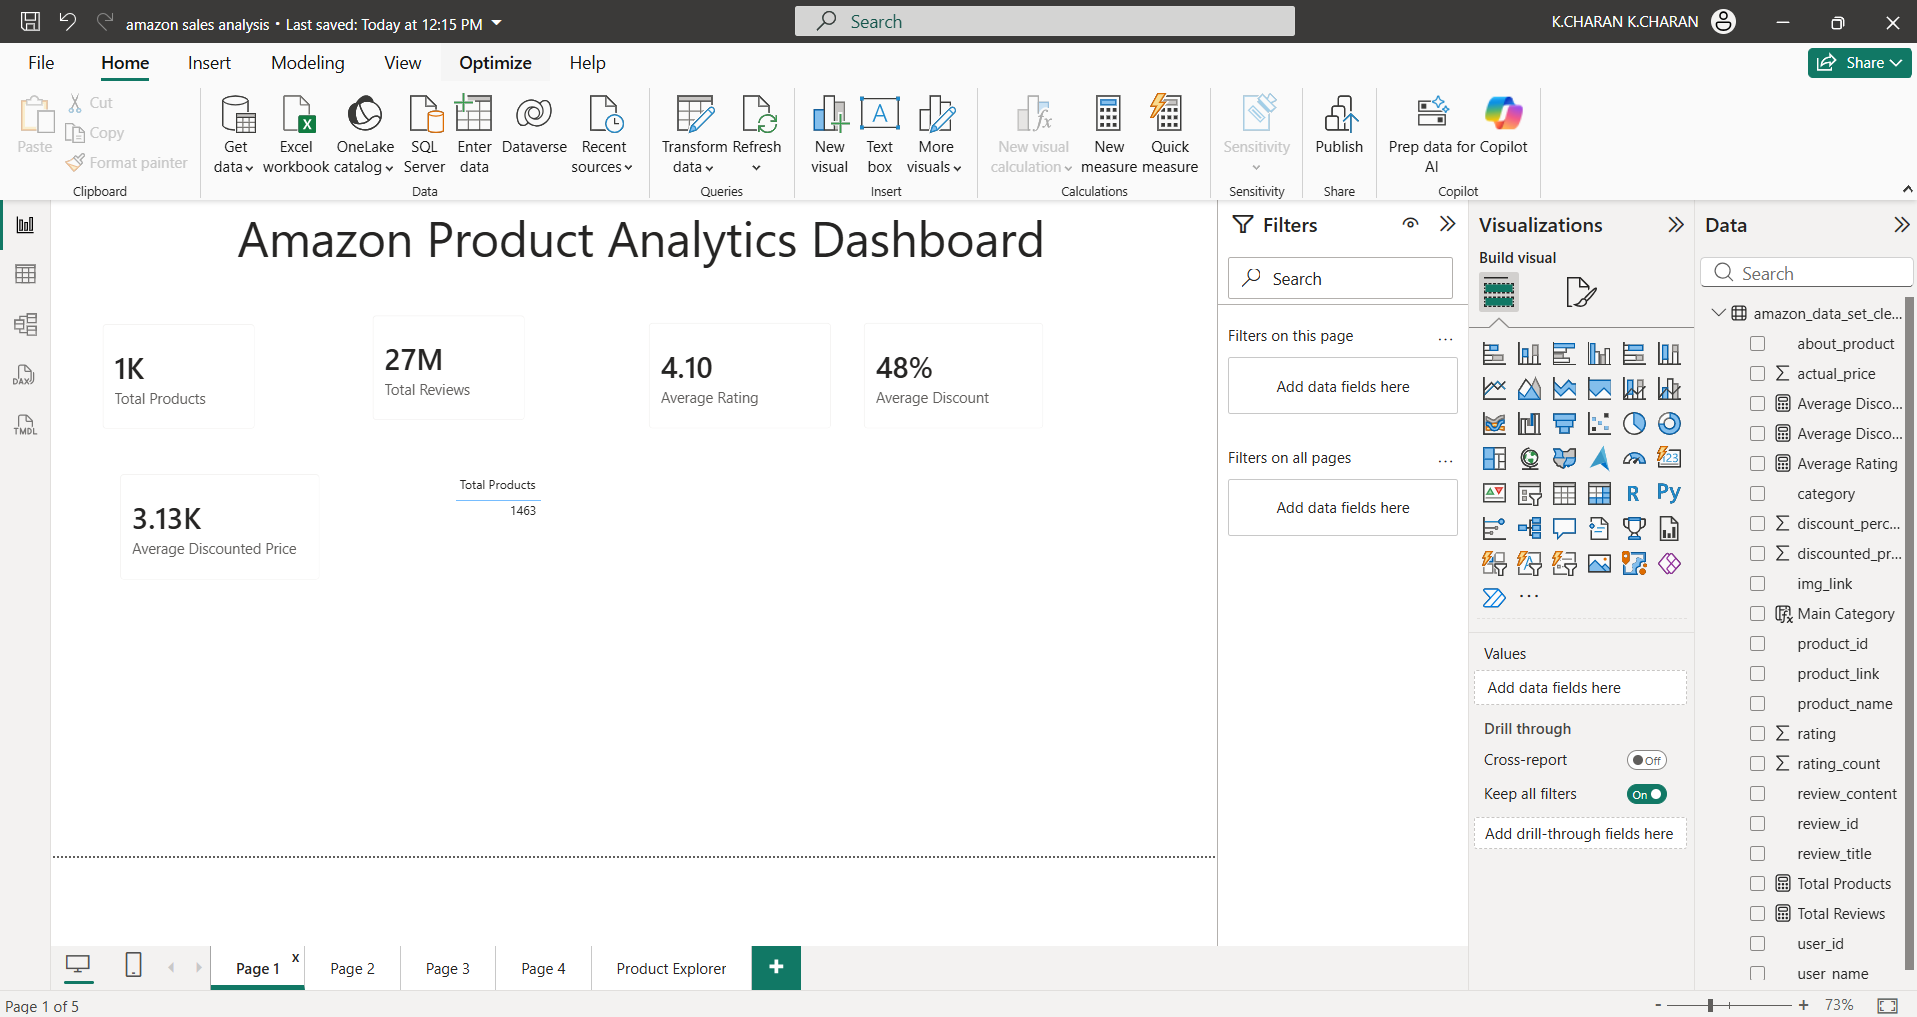

This screenshot's page, from the dashboard's own definition file:
{"tool":"powerbi","page":{"name":"Page 1","canvas":[1280,720],"ordinal":0},"visuals":[{"type":"textbox","box":[9.6,0,1259.7,81],"z":0},{"type":"cardVisual","fields":{"Data":["amazon_data_set_cleaned.Total Products"]},"box":[39.1,119.8,201.8,149.2],"z":1000},{"type":"cardVisual","fields":{"Data":["amazon_data_set_cleaned.Total Reviews"]},"box":[336.3,110.1,201.8,149.2],"z":2000},{"type":"cardVisual","fields":{"Data":["amazon_data_set_cleaned.Average Rating"]},"box":[639.5,118.6,234.8,150.4],"z":3000},{"type":"cardVisual","fields":{"Data":["amazon_data_set_cleaned.Average Discount"]},"box":[875.5,118.6,231.1,150.4],"z":4000},{"type":"cardVisual","fields":{"Data":["amazon_data_set_cleaned.Average Discounted Price"]},"box":[58.7,283.7,253.1,150.4],"z":5000},{"type":"tableEx","fields":{"Values":["amazon_data_set_cleaned.Total Products"]},"box":[437.8,295.9,146.7,106.4],"z":6000}]}

Visuals, with their boxes on the page's 1280x720 design canvas (x1, y1, x2, y2). These are canvas units, not pixel positions in the 1917x1017 screenshot, which may show the page scaled, cropped or inside an application window:
textbox: [10,0,1269,81]
cardVisual - amazon_data_set_cleaned.Total Products: [39,120,241,269]
cardVisual - amazon_data_set_cleaned.Total Reviews: [336,110,538,259]
cardVisual - amazon_data_set_cleaned.Average Rating: [640,119,874,269]
cardVisual - amazon_data_set_cleaned.Average Discount: [876,119,1107,269]
cardVisual - amazon_data_set_cleaned.Average Discounted Price: [59,284,312,434]
tableEx - amazon_data_set_cleaned.Total Products: [438,296,584,402]
